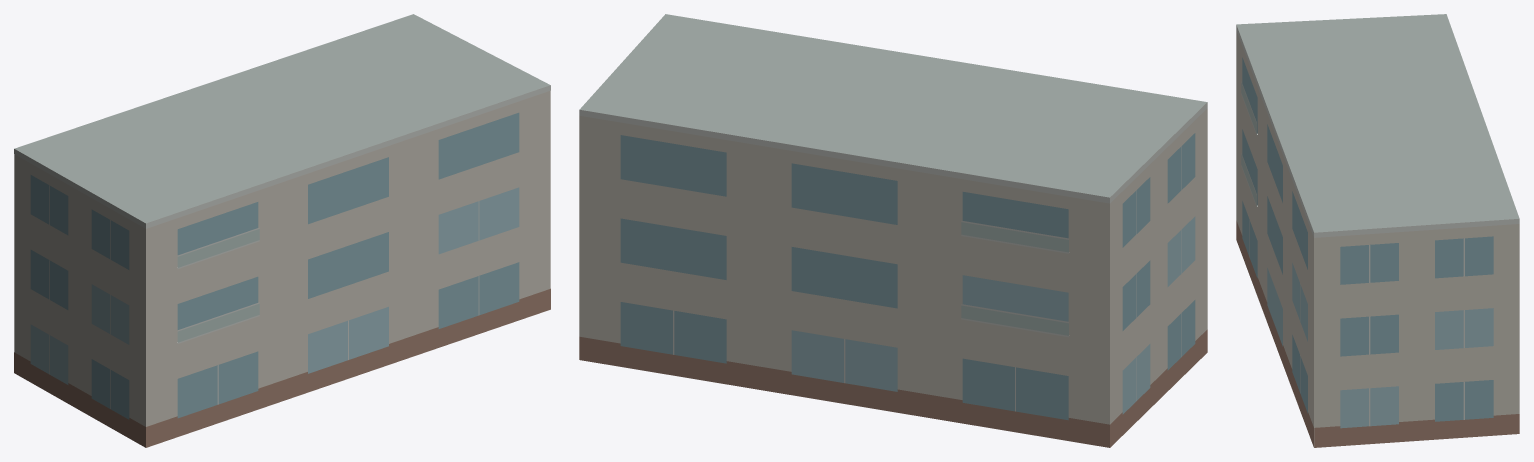
Rendered from survey-upis-32959989.glb.
3 views of the same model, side by side, from view 1: azimuth 30°, elevation 25°; view 2: azimuth 150°, elevation 25°; view 3: azimuth 270°, elevation 25° (orthographic). The views are drawn at different scales.
Visible parts, largest first — view 1: survey-upis-32959989.tmp; view 2: survey-upis-32959989.tmp; view 3: survey-upis-32959989.tmp.
Part boxes in pixels (x1=…): survey-upis-32959989.tmp: x1=14, y1=14, x2=550, y2=447; survey-upis-32959989.tmp: x1=579, y1=14, x2=1207, y2=447; survey-upis-32959989.tmp: x1=1236, y1=14, x2=1519, y2=447.
Size of the model in its own units: 22.03 by 10.1 by 12.07.
